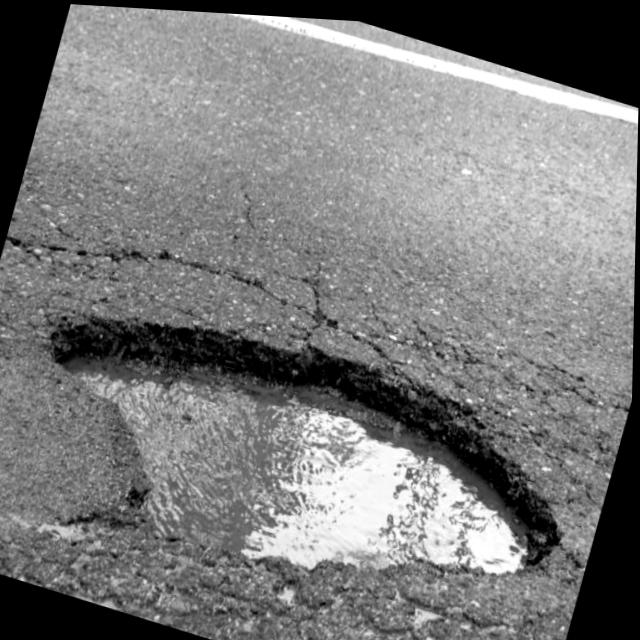pathole: (0, 212, 604, 640)
